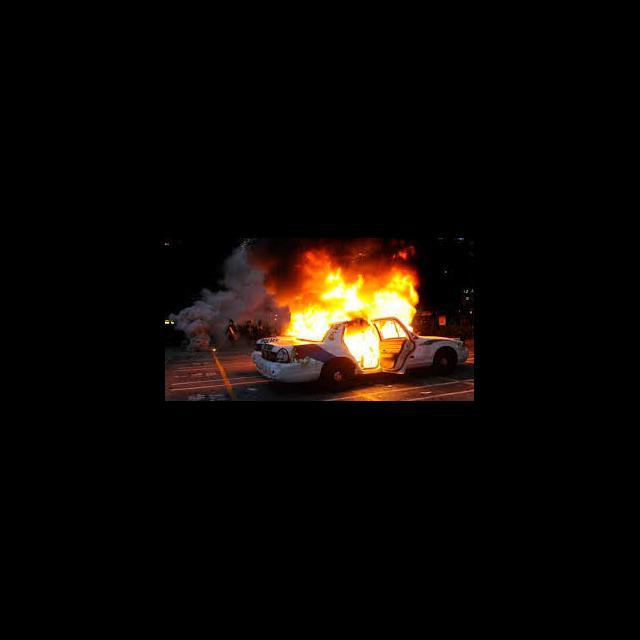Fire: (284, 255, 419, 372)
Smoke: (203, 255, 270, 313), (171, 303, 219, 354)
